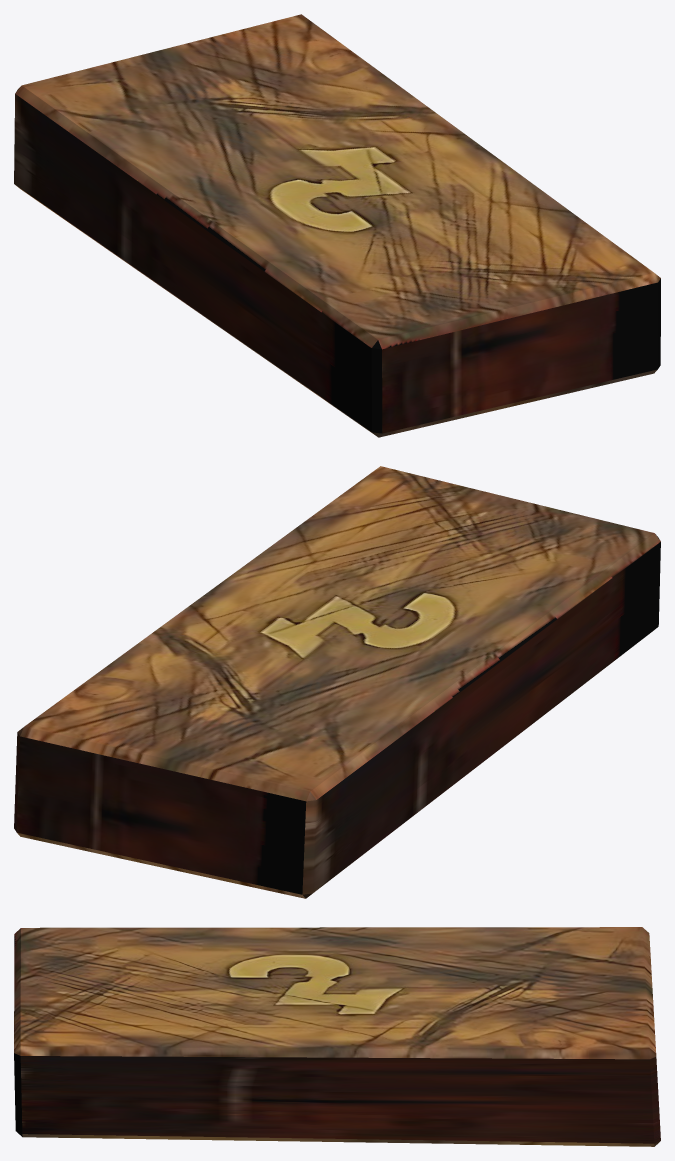
Rendered from 24-movie-watch-box.glb.
The picture shows the model from 3 angles, top to bottom: view 1: azimuth 30°, elevation 25°; view 2: azimuth 150°, elevation 25°; view 3: azimuth 270°, elevation 25°; orthographic projection. The views are drawn at different scales.
Visible parts, largest first — view 1: Cube; view 2: Cube; view 3: Cube.
Part boxes in pixels (x1,y1,x2,y2): Cube: (14,14,660,437); Cube: (14,466,660,898); Cube: (14,927,660,1146).
Bounding box in the file's own units: 0.1505 × 0.0538 × 0.3206.
Materials: 1 (1 with a texture image).
